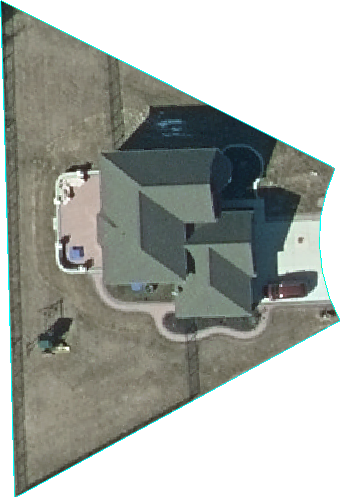house: (95, 144, 262, 322)
